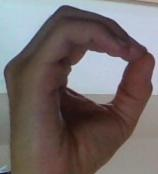O: (3, 2, 158, 174)
